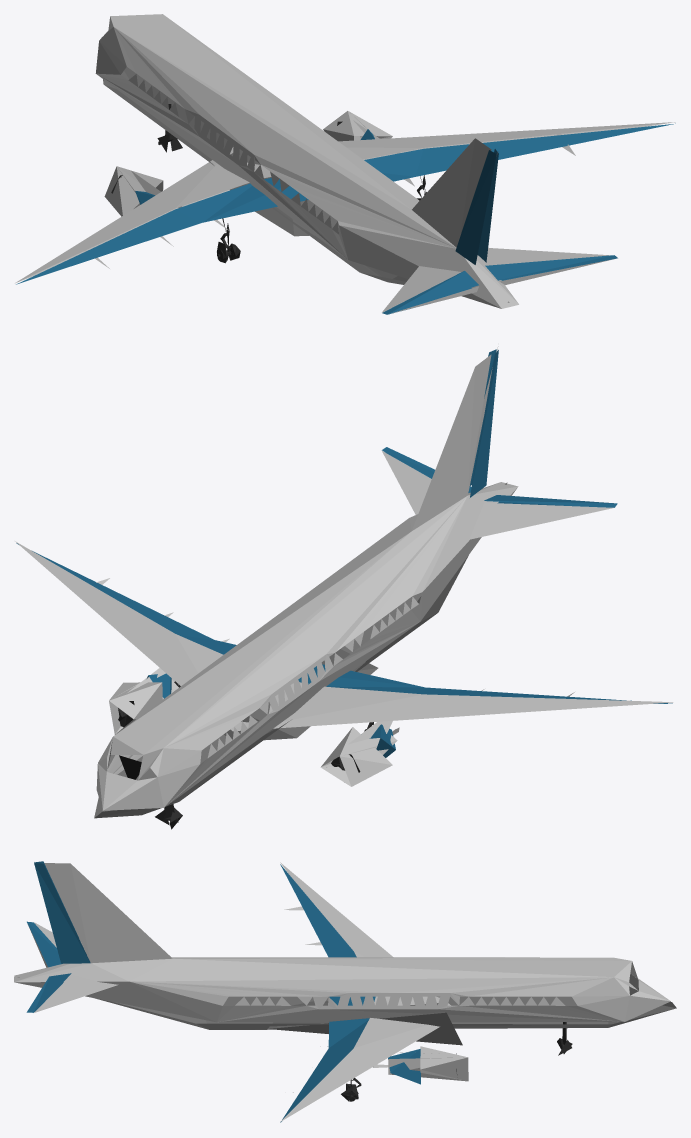
File: airliner_b.fbx
3 renders of one model, top to bottom at view 1: azimuth 30°, elevation 25°; view 2: azimuth 150°, elevation 25°; view 3: azimuth 270°, elevation 25°, orthographic. The views are drawn at different scales.
Visible parts, largest first — view 1: Plane; view 2: Plane; view 3: Plane.
Part boxes in pixels (x1,y1,x2,y2): Plane: (15,14,675,314); Plane: (15,346,673,829); Plane: (14,861,676,1122).
Bounding box in the file's own units: 0.9305 × 0.3279 × 1.
